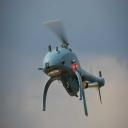helicopter: (38, 21, 105, 118)
